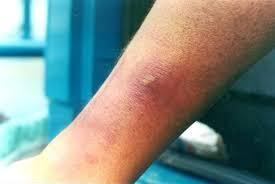Spider: (122, 61, 184, 110)
